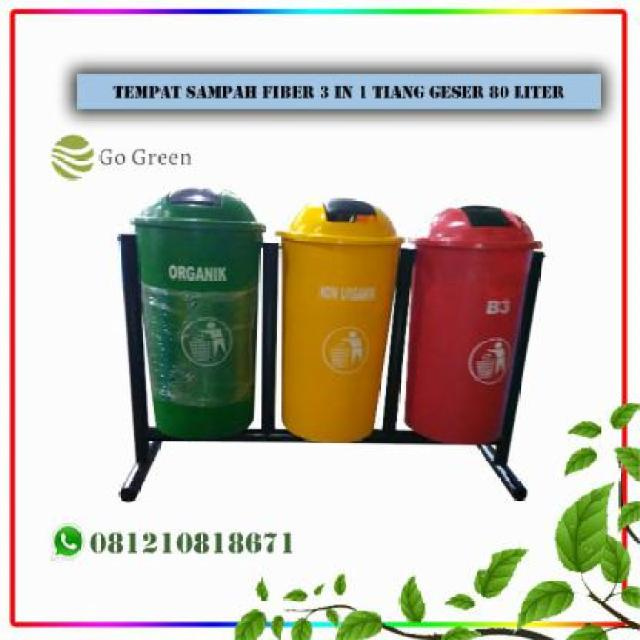garbage container: (123, 180, 266, 448), (266, 192, 402, 460), (407, 200, 544, 455)
